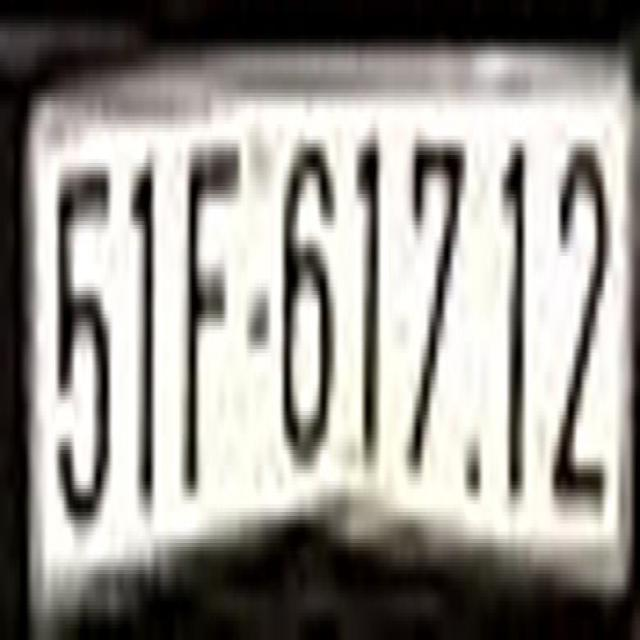1: (128, 155, 160, 547), (353, 120, 385, 477), (497, 116, 525, 508)
2: (546, 116, 614, 520)
5: (55, 167, 112, 531)
6: (278, 124, 336, 489)
7: (408, 109, 465, 488)
F: (183, 147, 242, 489)
